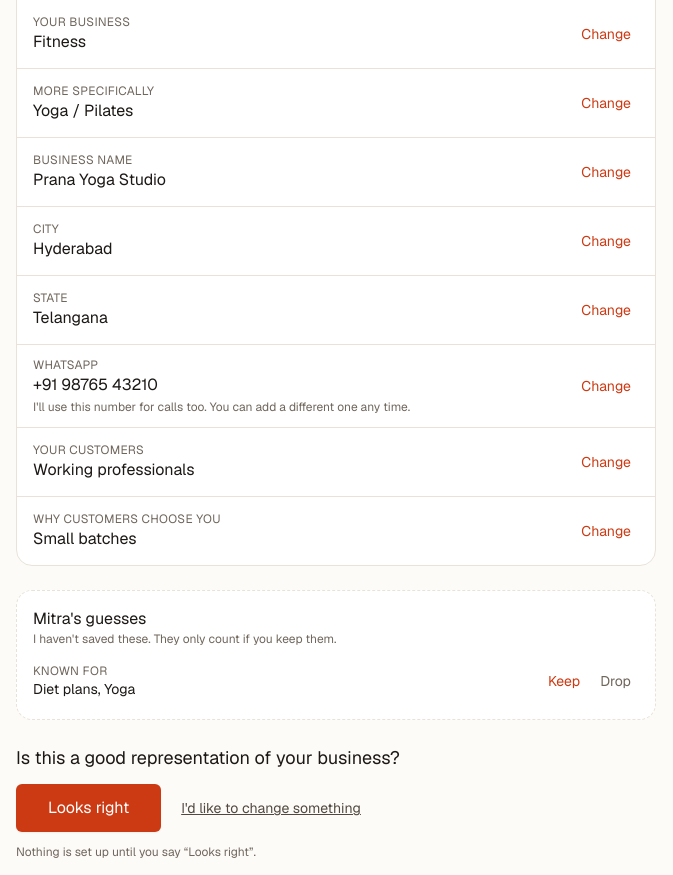
Test: review and confirm › Mitra's guesses are never part of the business unless kept › dropping one hides it, saves nothing, and does not block confirming
The image size is (673, 875).
(page scrolled)
Click the button with aria-label "drop my guess for known for": (616, 681) [592,659,639,703]
(page scrolled)
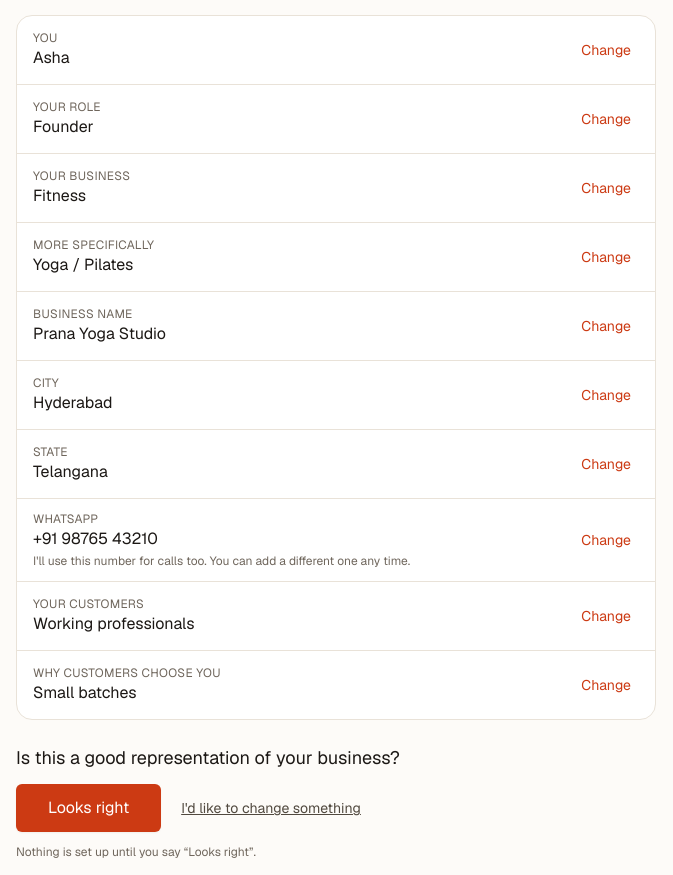
Check: the button "Looks right" is enabled, box [16,784,161,832]
Check: the heading "Mitra's guesses" is gone
